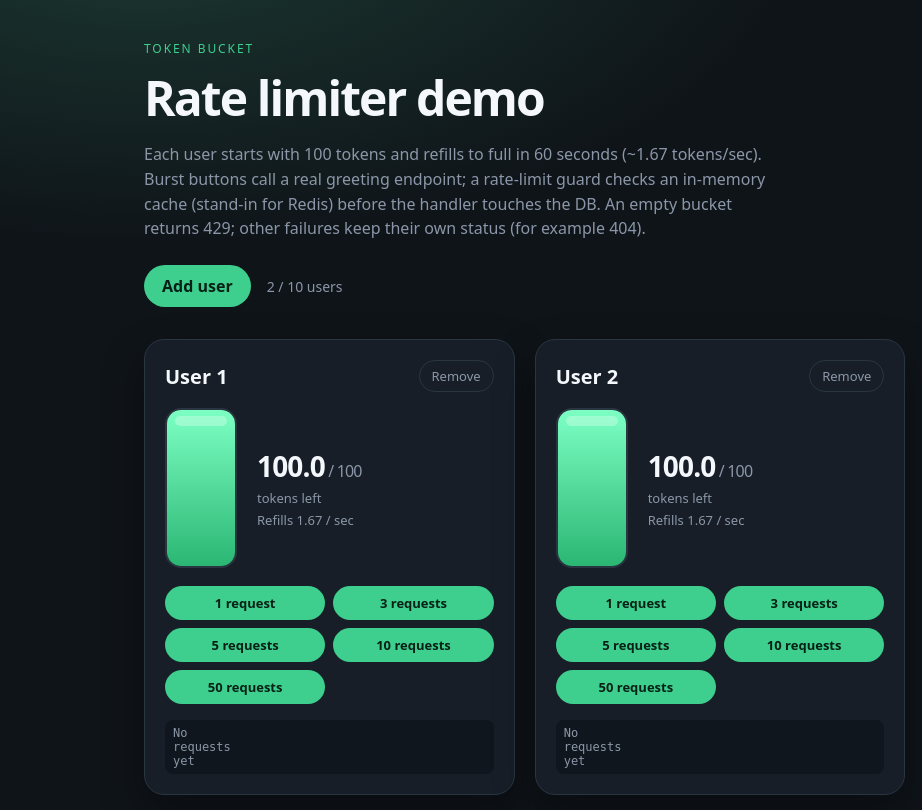
Test: App › does not attach one user's hits to another user's card
Expected: the heading "User 1" is shown, x1=165 y1=363 x2=228 y2=390
Click the button "1 request" below "User 1".
click(245, 603)  # box x1=165 y1=586 x2=325 y2=620
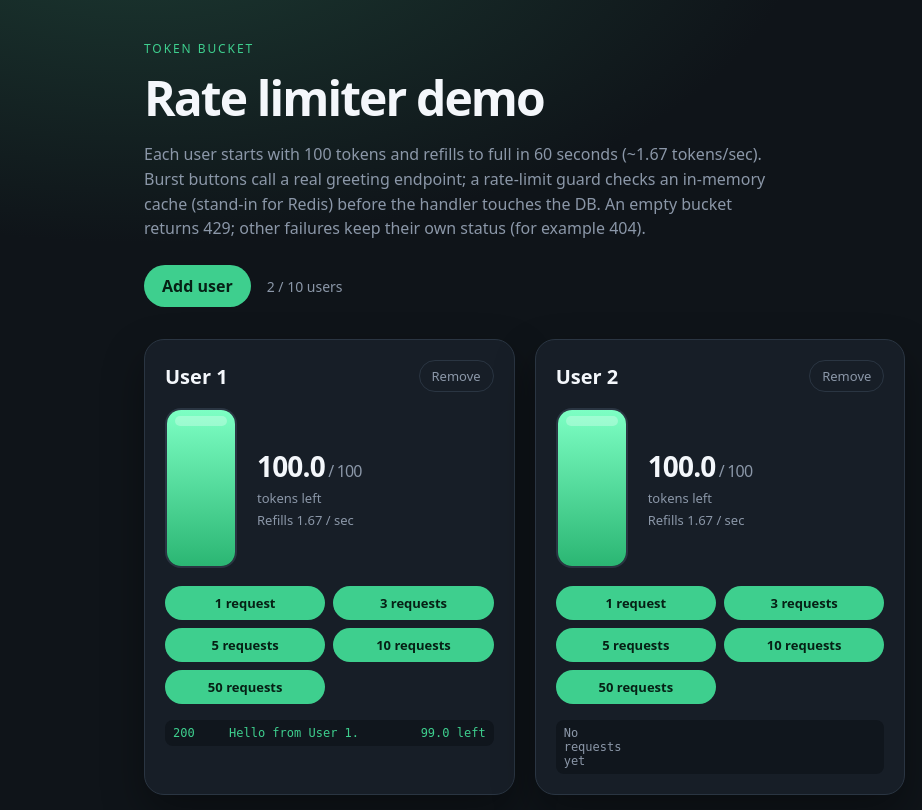
Expected: the list item "No requests yet" is shown, x1=556 y1=720 x2=884 y2=774
Now the text "Hello from User 1." is shown, box x1=229 y1=726 x2=359 y2=740
